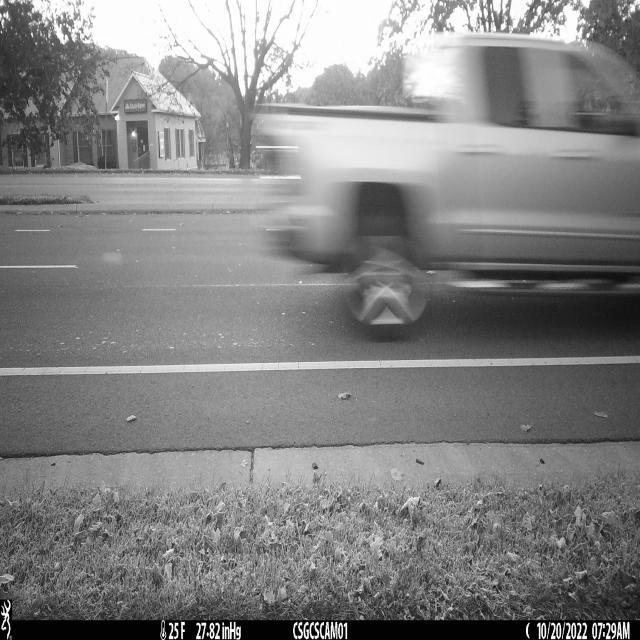Pickup: (251, 32, 640, 324)
